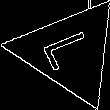L_NE: (37, 27, 101, 76)
